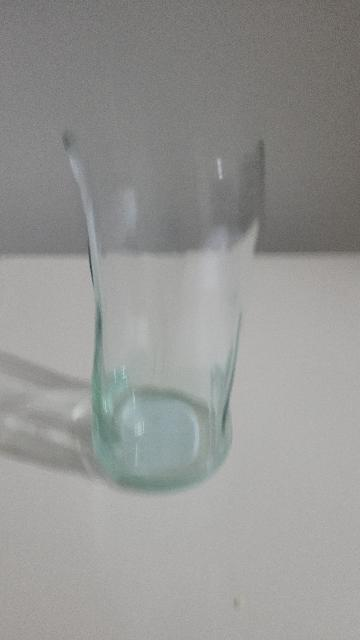Cam: (65, 123, 253, 483)
